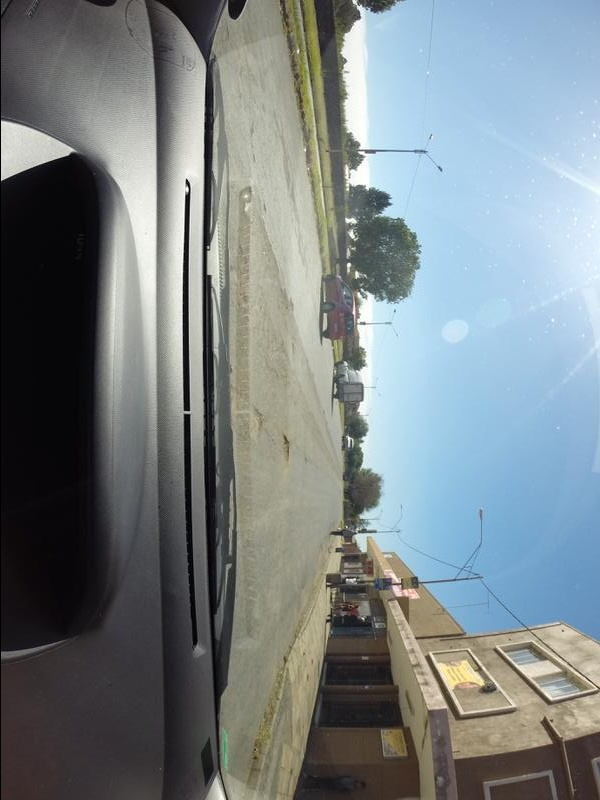pothole: (249, 403, 269, 471), (278, 432, 295, 474)
